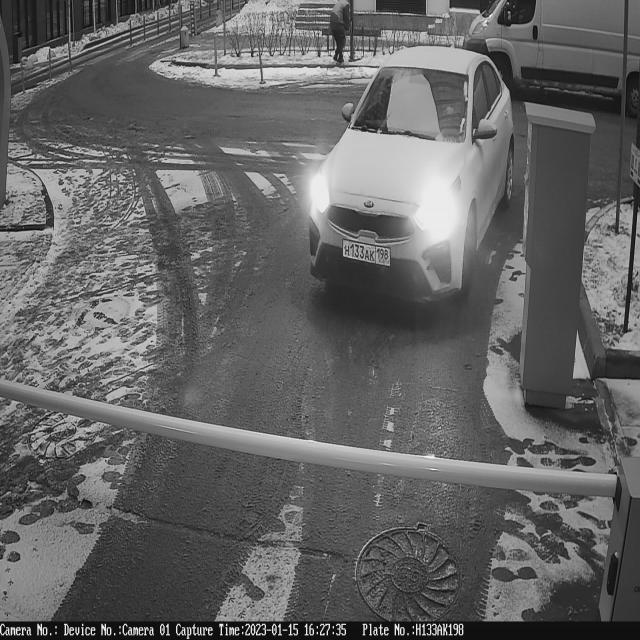car-plate-numbers: (343, 238, 393, 270)
